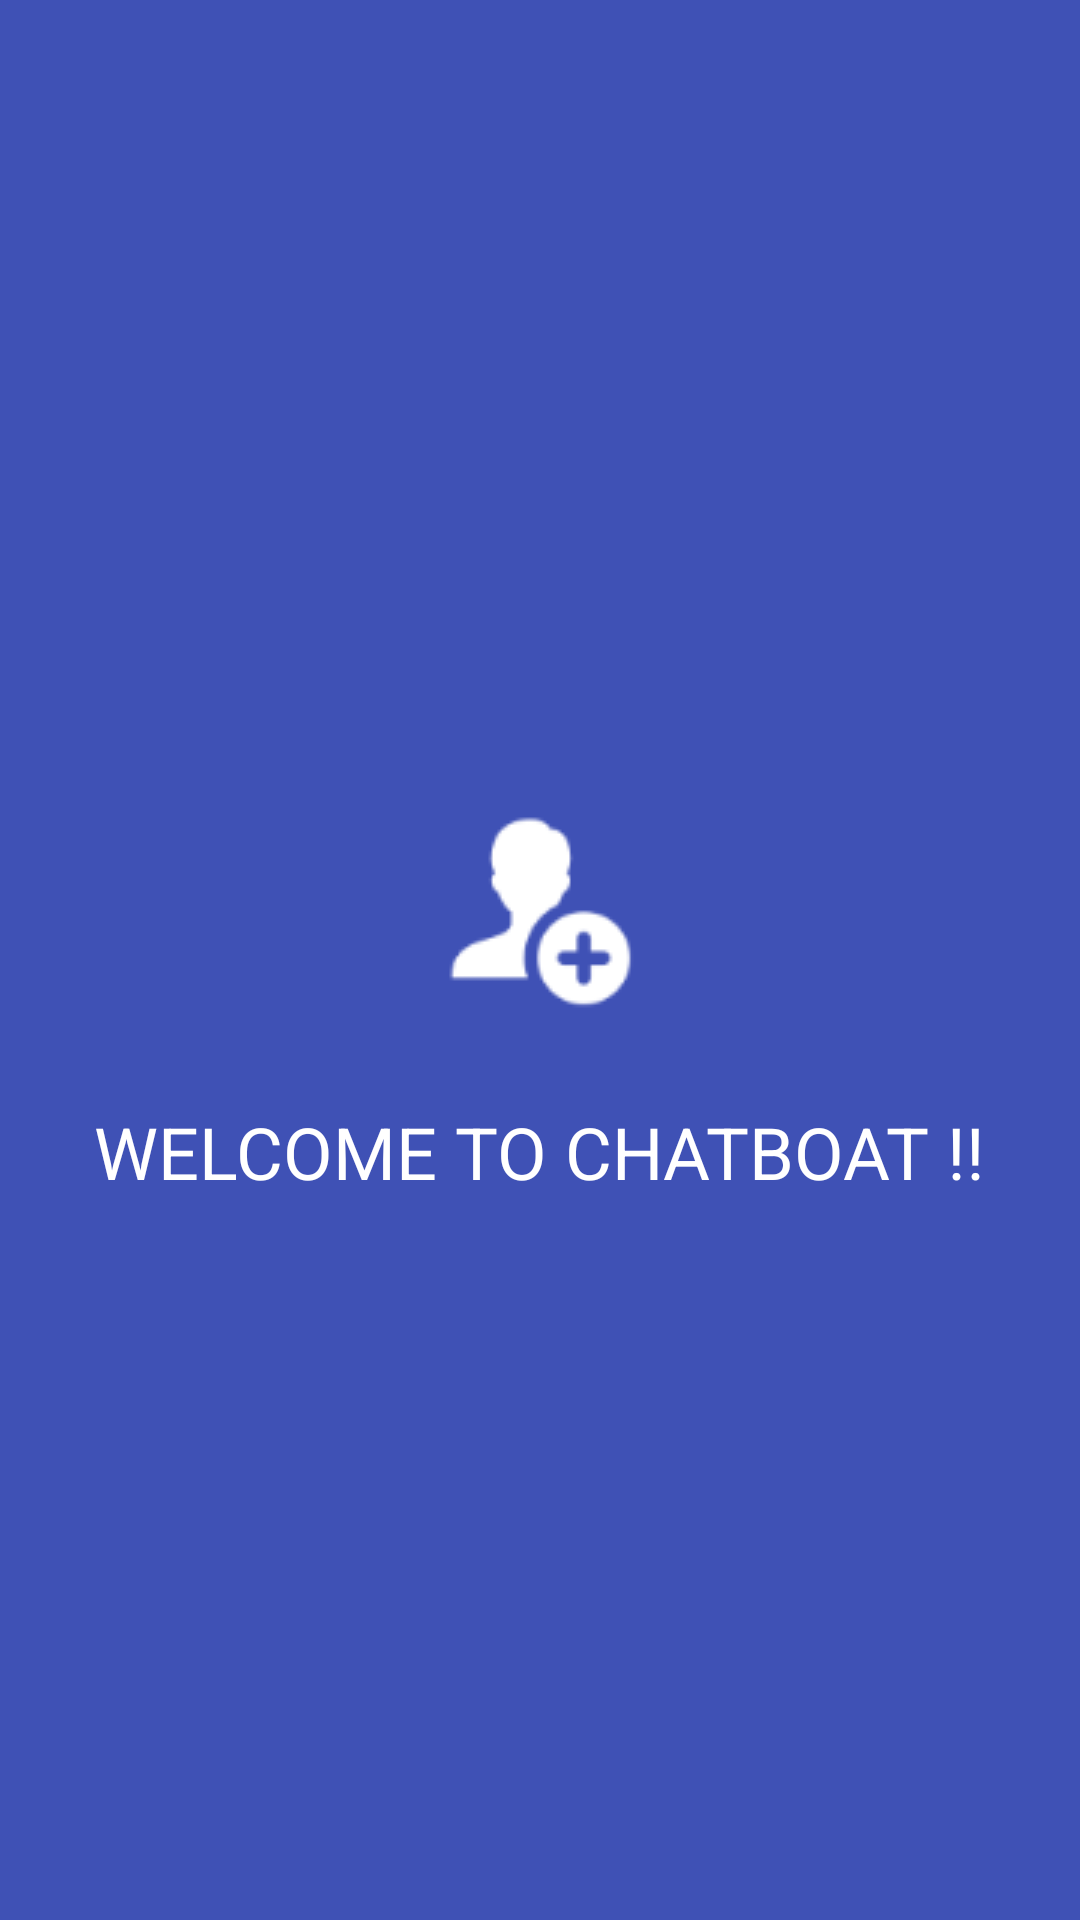

Icon bounding boxes for this 1080 x 1920 phone screenshot, format (x1=x1, y1=y1, x2=x2, y2=y2):
signup: (x1=450, y1=817, x2=631, y2=1006)
